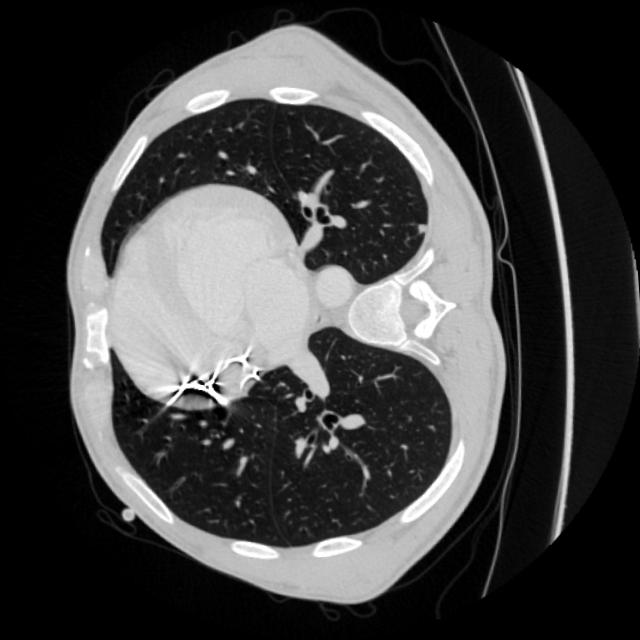nodule: (408, 217, 432, 240)
